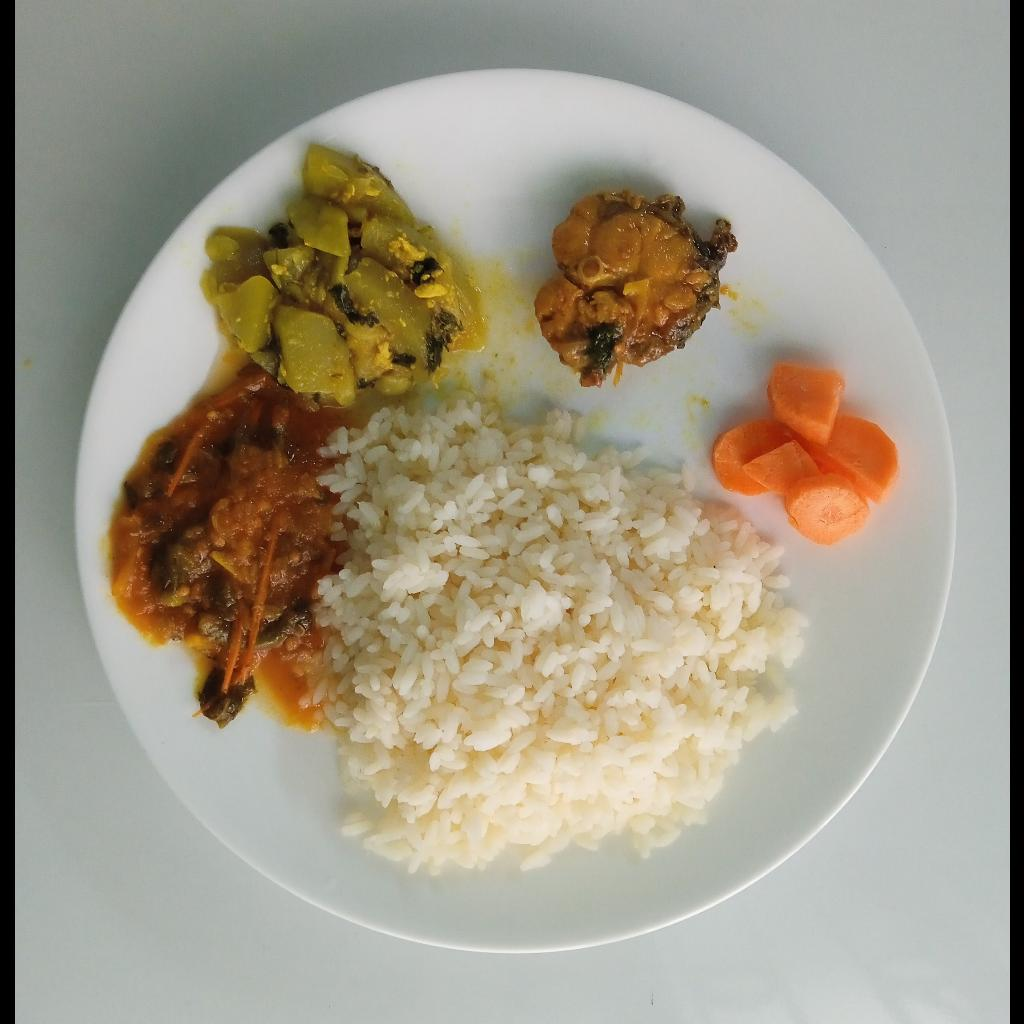carrot: (710, 360, 900, 547)
fish: (531, 189, 737, 384)
lau: (204, 144, 482, 405)
rice: (315, 398, 820, 874)
tomato: (115, 371, 332, 714)
